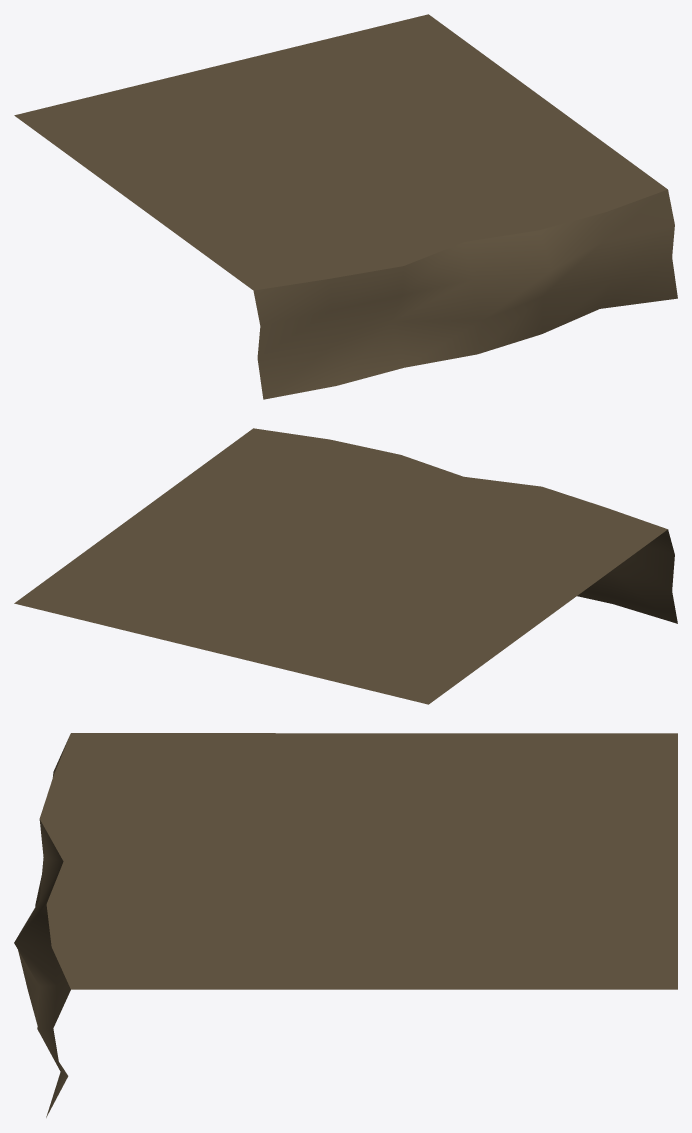
File: floor_edge_1.fbx
3 renders of one model, top to bottom at view 1: azimuth 30°, elevation 25°; view 2: azimuth 150°, elevation 25°; view 3: azimuth 270°, elevation 25°, orthographic. The views are drawn at different scales.
Parts seen in each view (by area): view 1: cave_edge_1; view 2: cave_edge_1; view 3: cave_edge_1.
Part boxes in pixels (x1,y1,x2,y2): cave_edge_1: (14,14,677,399); cave_edge_1: (14,428,677,704); cave_edge_1: (14,733,677,1117).
Bounding box in the file's own units: 675 × 159 × 738.
